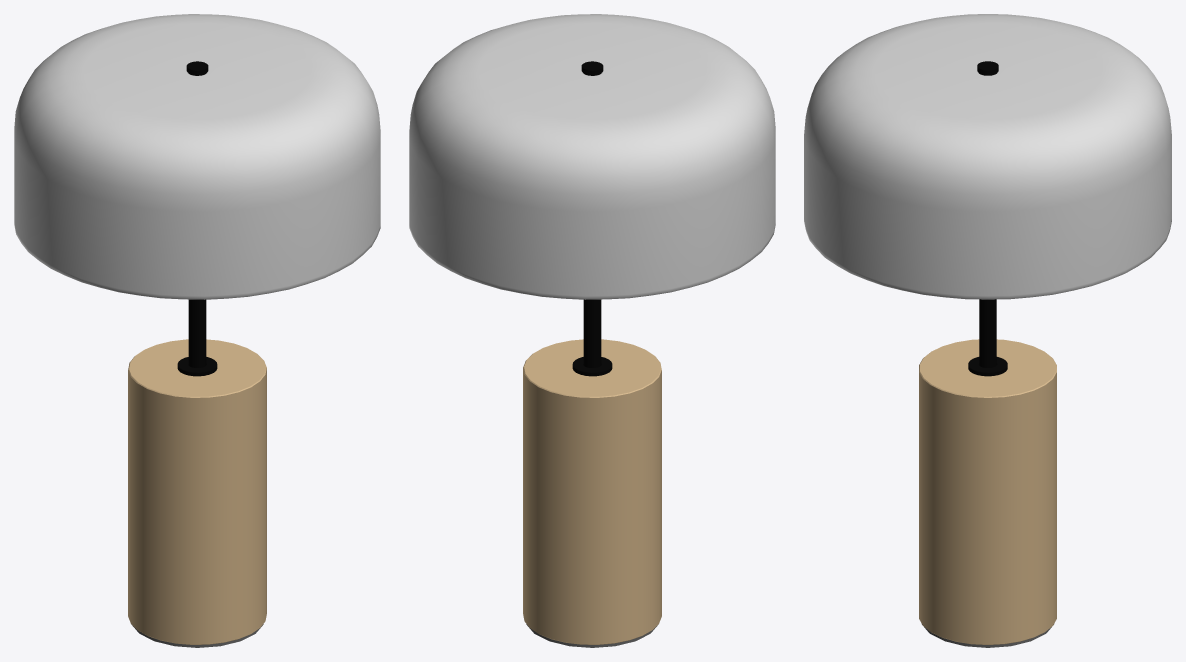
File: vidallamp.glb
3 views of the same model, side by side, from view 1: azimuth 30°, elevation 25°; view 2: azimuth 150°, elevation 25°; view 3: azimuth 270°, elevation 25° (orthographic).
Visible parts, largest first — view 1: Cúpula, Cuerpo, Tallo metálico; view 2: Cúpula, Cuerpo, Tallo metálico; view 3: Cúpula, Cuerpo, Tallo metálico.
Part boxes in pixels (x1,y1,x2,y2): Cúpula: (14, 14, 380, 299); Cuerpo: (128, 339, 266, 644); Tallo metálico: (177, 61, 217, 376); Cúpula: (409, 14, 775, 299); Cuerpo: (523, 339, 661, 644); Tallo metálico: (572, 61, 612, 376); Cúpula: (804, 14, 1171, 299); Cuerpo: (919, 339, 1056, 644); Tallo metálico: (968, 61, 1007, 376).
Bounding box in the file's own units: 0.264 × 0.44 × 0.2648.
